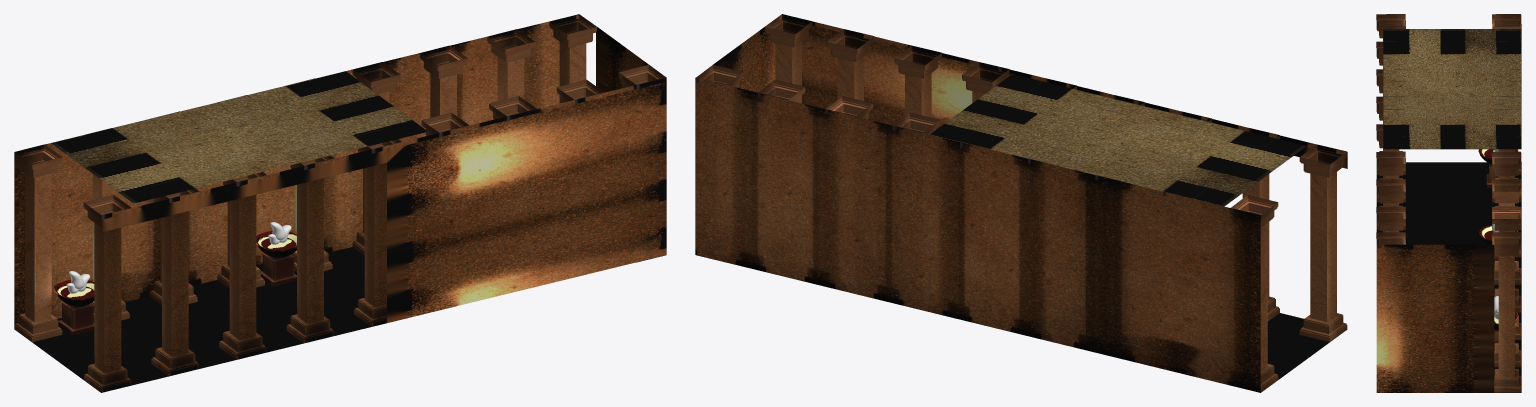
Rendered from salaSubterranea01.fbx.
The picture shows the model from 3 angles, left to right: view 1: azimuth 30°, elevation 25°; view 2: azimuth 150°, elevation 25°; view 3: azimuth 270°, elevation 25°; orthographic projection. The views are drawn at different scales.
Visible parts, largest first — view 1: sala.001, colunas, sala.002, sala, colunas02, altar.004, baciaMetal001, fogo; view 2: sala.001, sala.002, colunas, colunas02, sala; view 3: sala.001, sala.002, colunas, sala, colunas02, baciaMetal001, altar.004, fogo.
Part boxes in pixels (box(x1,y1,x2,y2)): sala.001: box(14, 14, 666, 328); colunas: box(83, 14, 665, 392); sala.002: box(51, 71, 426, 202); sala: box(32, 247, 370, 392); colunas02: box(14, 29, 535, 342); altar.004: box(58, 253, 296, 335); baciaMetal001: box(54, 230, 296, 306); fogo: box(66, 222, 291, 293); sala.001: box(695, 14, 1347, 392); sala.002: box(930, 75, 1305, 206); colunas: box(696, 14, 1347, 341); colunas02: box(758, 79, 1278, 392); sala: box(1267, 313, 1346, 379); sala.001: box(1376, 244, 1494, 392); sala.002: box(1383, 29, 1521, 149); colunas: box(1376, 14, 1521, 392); sala: box(1376, 162, 1521, 392); colunas02: box(1492, 14, 1521, 367); baciaMetal001: box(1478, 149, 1518, 330); altar.004: box(1486, 163, 1498, 349); fogo: box(1492, 149, 1498, 319).
Bounding box in the file's own units: 2093 × 629 × 557.
